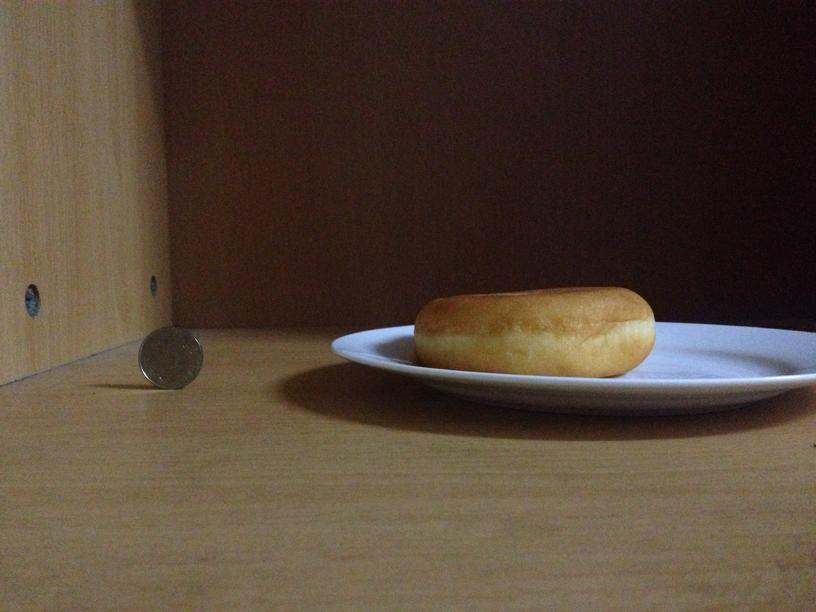coin: (136, 327, 203, 389)
doughnut: (411, 290, 653, 376)
